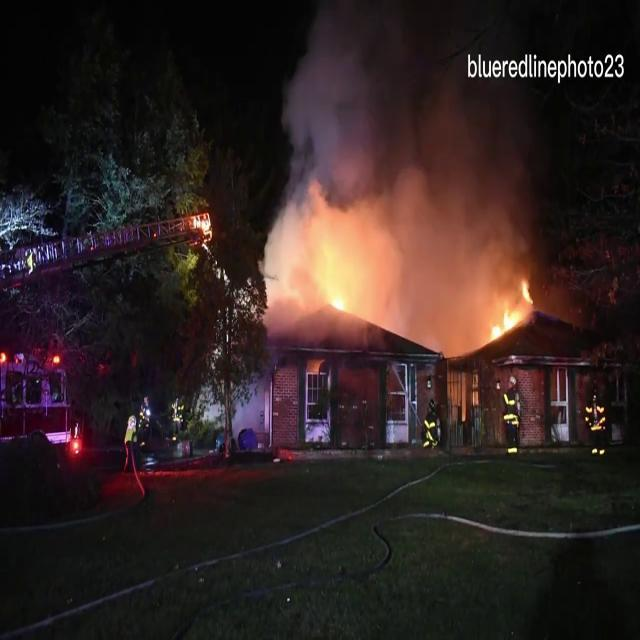Fire: (478, 274, 538, 348)
Smoke: (260, 0, 558, 302)
